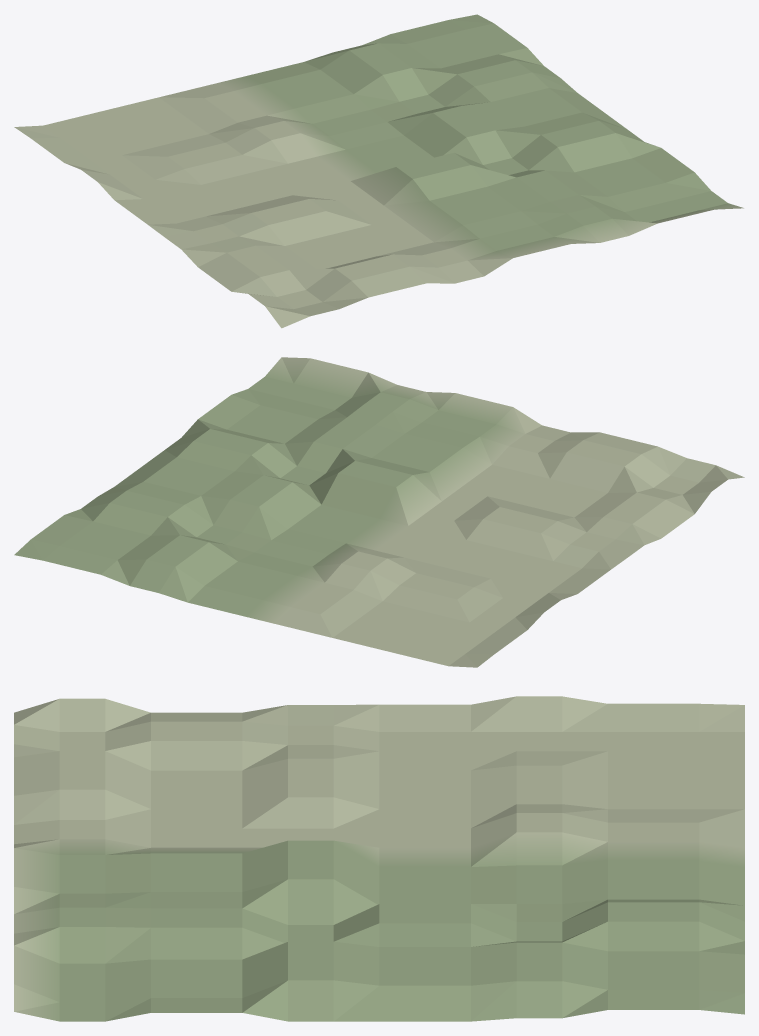
3 renders of one model, top to bottom at view 1: azimuth 30°, elevation 25°; view 2: azimuth 150°, elevation 25°; view 3: azimuth 270°, elevation 25°, orthographic. The views are drawn at different scales.
Bounding box in the file's own units: 32 × 1.28 × 32.
